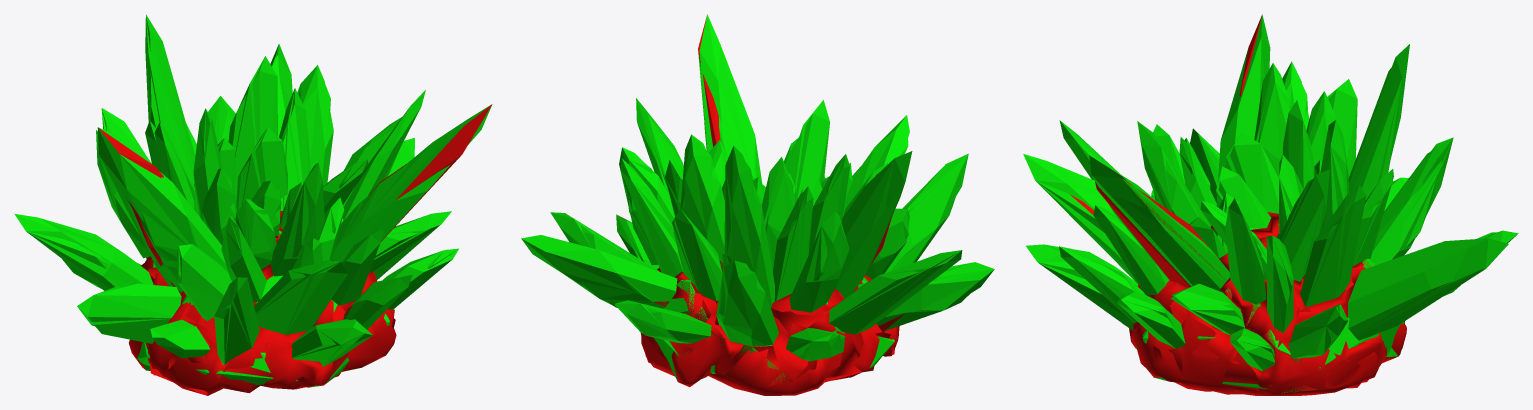
File: basilite_all_lods.fbx
3 views of the same model, side by side, from view 1: azimuth 30°, elevation 25°; view 2: azimuth 150°, elevation 25°; view 3: azimuth 270°, elevation 25° (orthographic). The views are drawn at different scales.
Visible parts, largest first — view 1: cryst_lod1, basilite_lod2, base_lod1, basilite_lod3, basilite_base_lod2, basilite_base_lod3; view 2: cryst_lod1, basilite_lod2, base_lod1, basilite_base_lod2, basilite_base_lod3, basilite_lod3; view 3: cryst_lod1, basilite_lod2, base_lod1, basilite_base_lod2, basilite_lod3, basilite_base_lod3.
Part boxes in pixels (bbox=[...]): cryst_lod1: bbox=[14, 14, 491, 366]; basilite_lod2: bbox=[27, 16, 490, 366]; base_lod1: bbox=[129, 211, 396, 395]; basilite_lod3: bbox=[98, 104, 492, 319]; basilite_base_lod2: bbox=[137, 218, 395, 395]; basilite_base_lod3: bbox=[137, 218, 389, 387]; cryst_lod1: bbox=[521, 14, 993, 361]; basilite_lod2: bbox=[525, 50, 994, 359]; base_lod1: bbox=[641, 267, 899, 395]; basilite_base_lod2: bbox=[640, 280, 895, 386]; basilite_base_lod3: bbox=[654, 277, 894, 382]; basilite_lod3: bbox=[618, 17, 903, 330]; cryst_lod1: bbox=[1023, 15, 1518, 371]; basilite_lod2: bbox=[1035, 14, 1516, 358]; base_lod1: bbox=[1122, 212, 1406, 395]; basilite_base_lod2: bbox=[1135, 236, 1404, 394]; basilite_lod3: bbox=[1070, 15, 1261, 339]; basilite_base_lod3: bbox=[1135, 224, 1404, 393].
Bounding box in the file's own units: 3.55 × 2.28 × 3.56.
